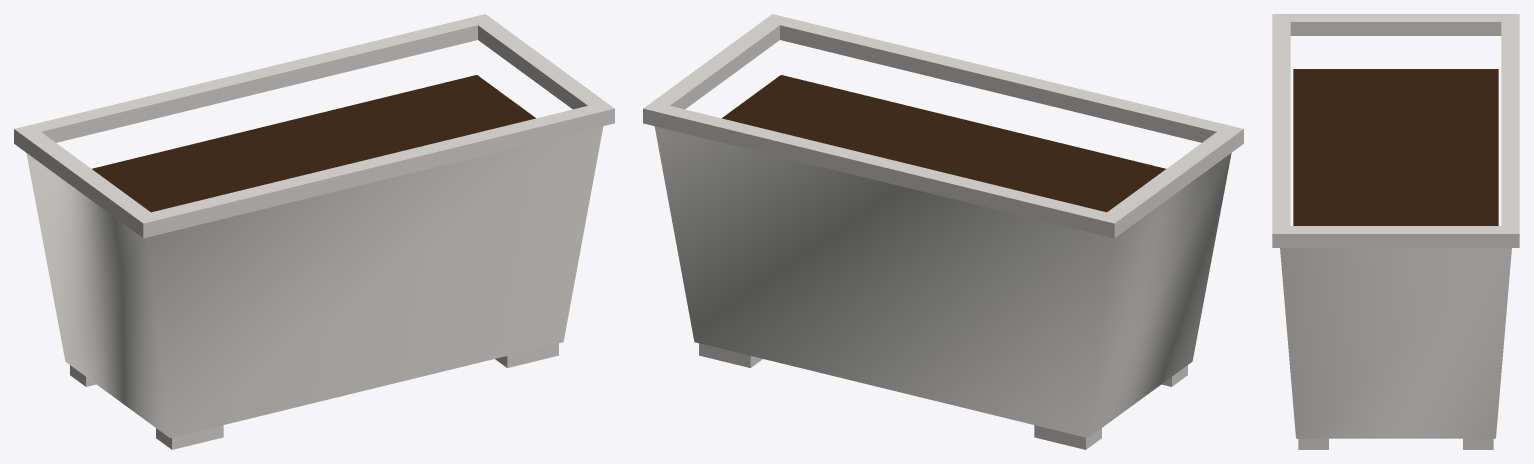
3 views of the same model, side by side, from view 1: azimuth 30°, elevation 25°; view 2: azimuth 150°, elevation 25°; view 3: azimuth 270°, elevation 25° (orthographic). The views are drawn at different scales.
Visible parts, largest first — view 1: shell, soil, rim-top-f, rim-top-b, rim-f, rim-b, rim-top-l, rim-top-r, rim-l, rim-r, foot-2, foot-3; view 2: shell, soil, rim-top-b, rim-top-f, rim-b, rim-f, rim-top-l, rim-top-r, rim-l, rim-r, foot-0, foot-1; view 3: shell, soil, rim-top-f, rim-top-b, rim-top-l, rim-top-r, rim-l, rim-r, foot-1, foot-3.
Boxes of the visible parts, left/top/right/bottom form: shell: left=26, top=126, right=603, bottom=437; soil: left=92, top=75, right=535, bottom=212; rim-top-f: left=134, top=101, right=614, bottom=230; rim-top-b: left=14, top=14, right=494, bottom=142; rim-f: left=134, top=115, right=614, bottom=238; rim-b: left=14, top=32, right=477, bottom=150; rim-top-l: left=23, top=132, right=150, bottom=222; rim-top-r: left=478, top=21, right=604, bottom=107; rim-l: left=23, top=143, right=133, bottom=231; rim-r: left=478, top=32, right=580, bottom=109; foot-2: left=156, top=425, right=223, bottom=449; foot-3: left=495, top=343, right=558, bottom=367; shell: left=654, top=126, right=1231, bottom=437; soil: left=722, top=75, right=1165, bottom=212; rim-top-b: left=643, top=101, right=1123, bottom=230; rim-top-f: left=763, top=14, right=1243, bottom=142; rim-b: left=643, top=115, right=1123, bottom=238; rim-f: left=780, top=32, right=1243, bottom=150; rim-top-l: left=1107, top=132, right=1234, bottom=222; rim-top-r: left=653, top=21, right=779, bottom=107; rim-l: left=1124, top=143, right=1234, bottom=231; rim-r: left=677, top=32, right=779, bottom=109; foot-0: left=1034, top=425, right=1101, bottom=449; foot-1: left=699, top=343, right=762, bottom=367; shell: left=1280, top=248, right=1511, bottom=438; soil: left=1293, top=69, right=1498, bottom=225; rim-top-f: left=1272, top=14, right=1290, bottom=240; rim-top-b: left=1501, top=14, right=1519, bottom=240; rim-top-l: left=1290, top=14, right=1501, bottom=28; rim-top-r: left=1290, top=226, right=1501, bottom=240; rim-l: left=1290, top=28, right=1501, bottom=35; rim-r: left=1290, top=240, right=1501, bottom=247; foot-1: left=1463, top=438, right=1493, bottom=449; foot-3: left=1298, top=438, right=1328, bottom=449.
Size of the model in its own units: 0.8 by 0.4 by 0.38.
